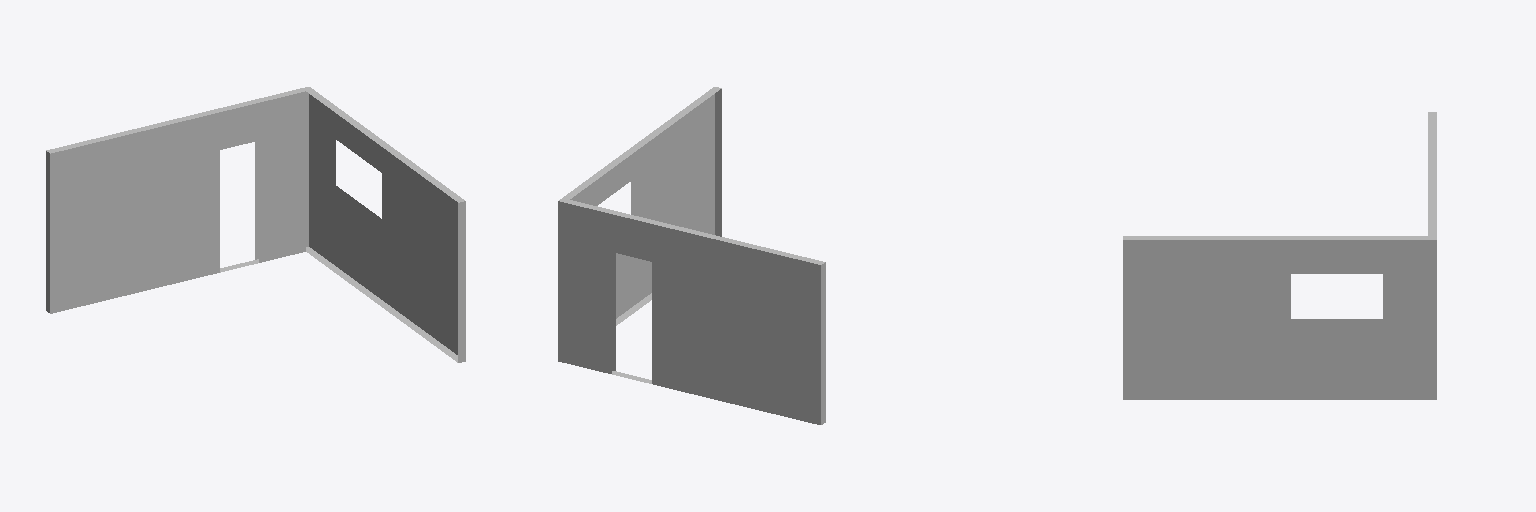
The model's file is managersOffice.obj.
The picture shows the model from 3 angles: view 1: azimuth 30°, elevation 25°; view 2: azimuth 150°, elevation 25°; view 3: azimuth 270°, elevation 25°; orthographic projection.
Size of the model in its own units: 142 by 82.59 by 146.